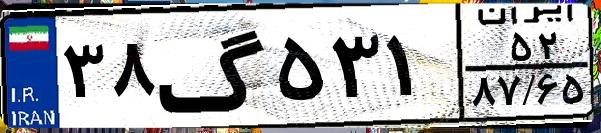1: (385, 28, 445, 110)
2: (537, 27, 568, 80)
3: (330, 28, 385, 110), (57, 26, 110, 100)
5: (270, 28, 330, 110), (560, 70, 590, 125), (508, 27, 537, 80)
6: (535, 70, 560, 125)
7: (495, 70, 520, 125)
8: (110, 28, 156, 98), (470, 70, 495, 125)
گ: (156, 12, 270, 120)
